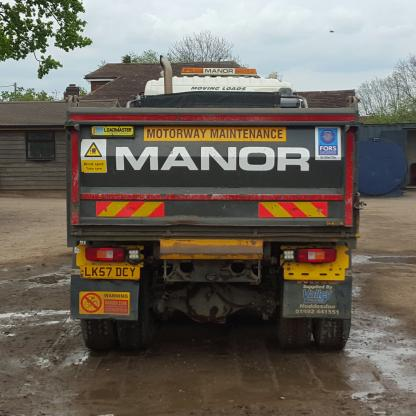dump_truck: (58, 47, 377, 361)
